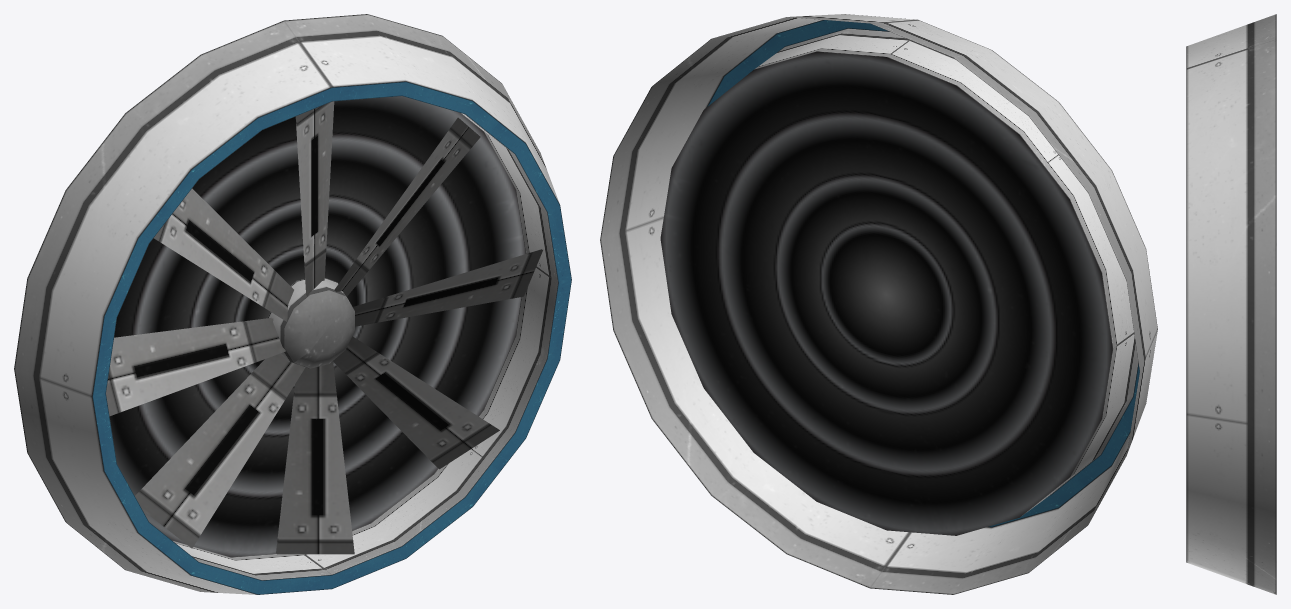
File: Blower_Big_01.FBX
3 renders of one model, left to right at view 1: azimuth 30°, elevation 25°; view 2: azimuth 150°, elevation 25°; view 3: azimuth 270°, elevation 25°, orthographic. The views are drawn at different scales.
Visible parts, largest first — view 1: Blower_Big_01, Rotor; view 2: Blower_Big_01; view 3: Blower_Big_01.
Part boxes in pixels (<box>): Blower_Big_01: <box>14,14,571,594</box>; Rotor: <box>106,101,542,554</box>; Blower_Big_01: <box>600,14,1157,594</box>; Blower_Big_01: <box>1186,14,1276,594</box>.
Bounding box in the file's own units: 53.54 × 53.54 × 8.28.
